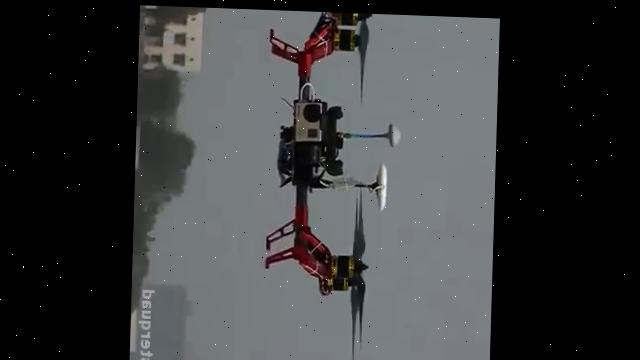drone: (261, 8, 407, 360)
